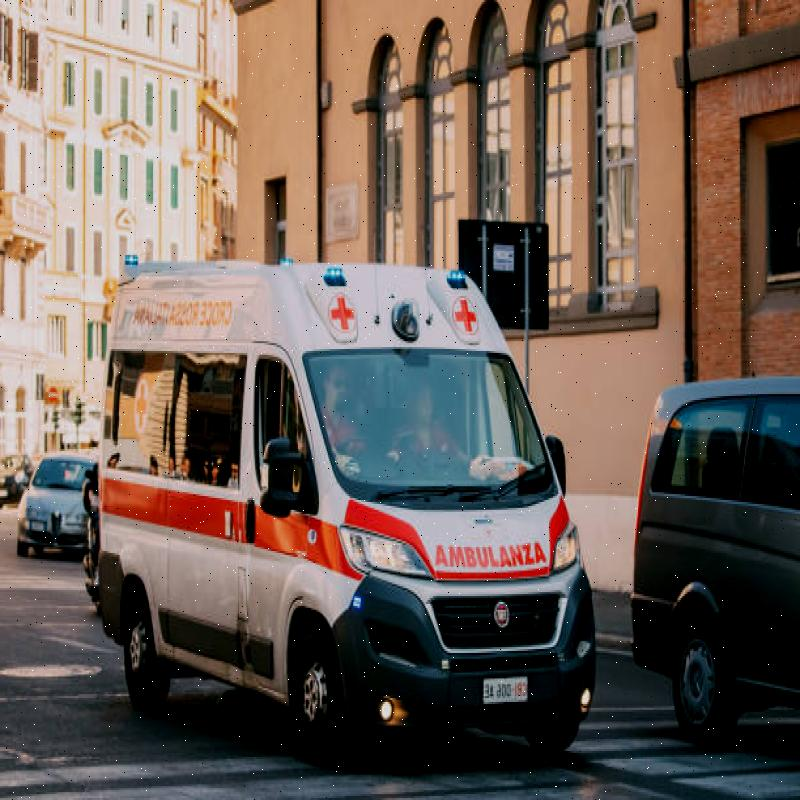ambulance: (84, 195, 610, 770)
